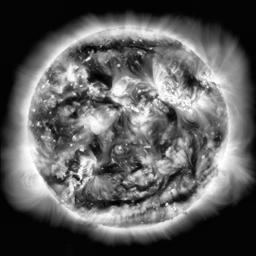solar flares: (146, 69, 180, 105), (85, 110, 110, 132), (181, 95, 200, 113), (110, 81, 129, 97), (80, 155, 96, 169), (62, 70, 77, 80)
sunspots: (86, 196, 145, 206), (89, 67, 116, 86), (127, 55, 149, 78), (47, 121, 69, 141), (181, 71, 202, 91), (82, 46, 148, 52), (189, 144, 200, 180), (168, 188, 198, 201), (88, 136, 106, 155), (151, 135, 168, 155), (165, 170, 185, 185), (164, 108, 180, 126), (117, 116, 131, 136), (95, 160, 117, 172), (129, 157, 144, 174), (213, 125, 225, 145), (66, 93, 82, 106), (67, 156, 81, 170), (98, 98, 116, 106)
